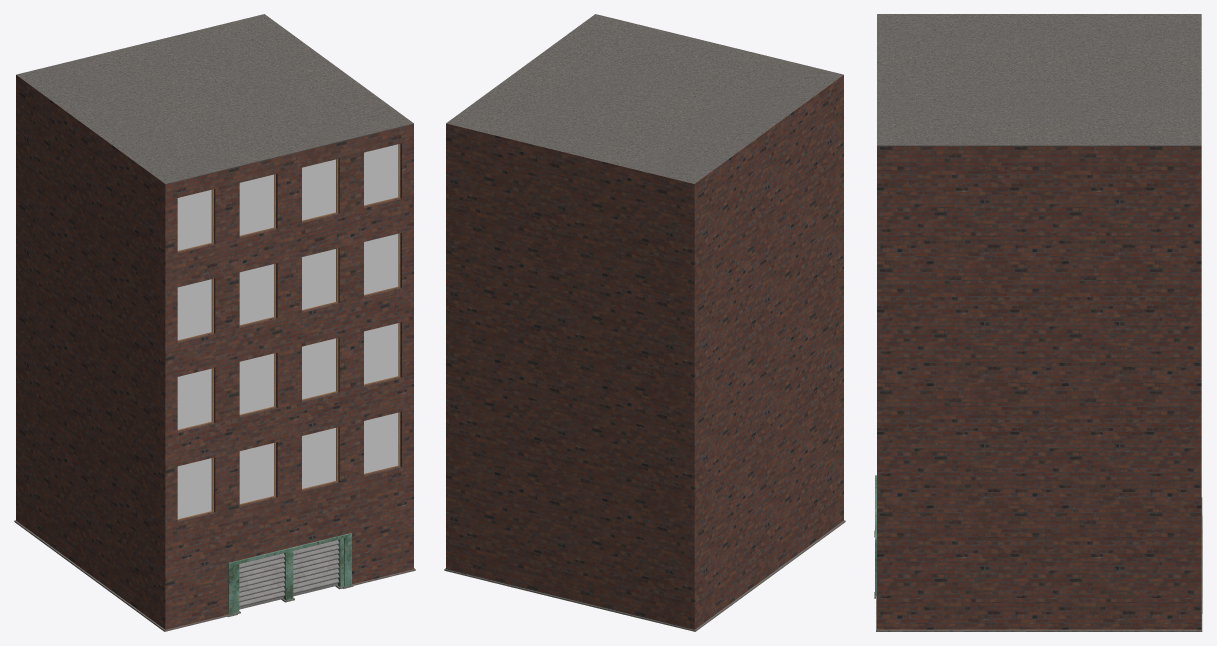
Rendered from building1.fbx.
3 renders of one model, left to right at view 1: azimuth 30°, elevation 25°; view 2: azimuth 150°, elevation 25°; view 3: azimuth 270°, elevation 25°, orthographic. The views are drawn at different scales.
Parts seen in each view (by area): view 1: building1; view 2: building1; view 3: building1.
Boxes of the visible parts, x1,y1,x2,y2 form: building1: (14, 14, 415, 631); building1: (444, 14, 845, 631); building1: (874, 14, 1202, 631).
Size of the model in its own units: 14611 by 24870 by 15238.
